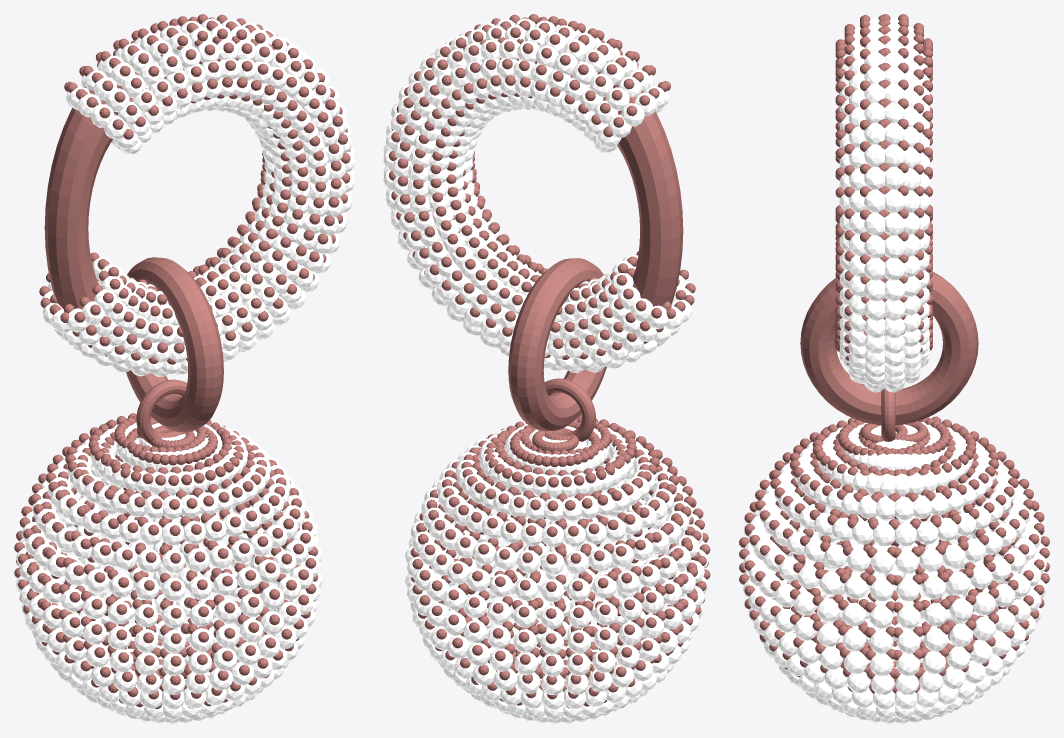
The model's file is ballearring.glb.
3 views of the same model, side by side, from view 1: azimuth 30°, elevation 25°; view 2: azimuth 150°, elevation 25°; view 3: azimuth 270°, elevation 25° (orthographic).
Parts seen in each view (by area): view 1: Torus.001, Torus.002, Torus.003; view 2: Torus.002, Torus.001, Torus.003; view 3: Torus.002, Torus.003.
Part boxes in pixels (x1=…): Torus.001: x1=44, y1=86, x2=115, y2=309; Torus.002: x1=126, y1=257, x2=223, y2=432; Torus.003: x1=136, y1=379, x2=187, y2=443; Torus.002: x1=508, y1=258, x2=606, y2=431; Torus.001: x1=617, y1=90, x2=683, y2=306; Torus.003: x1=544, y1=378, x2=595, y2=441; Torus.002: x1=800, y1=271, x2=978, y2=425; Torus.003: x1=881, y1=388, x2=895, y2=441.
Size of the model in its own units: 2.47 by 5.27 by 2.18.
